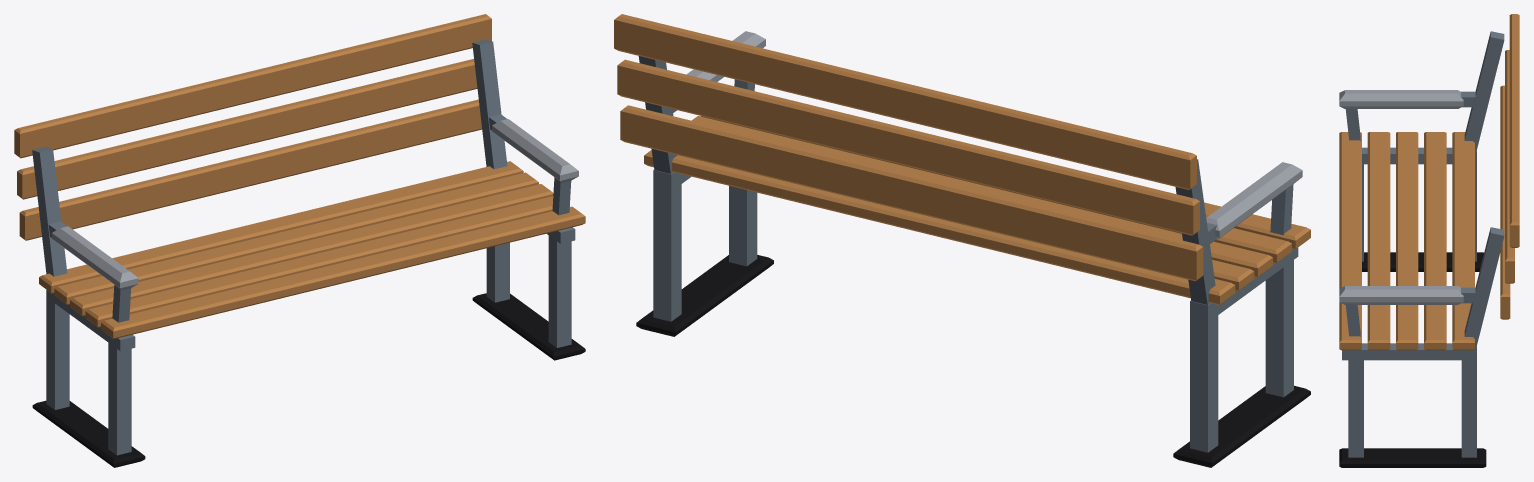
The model's file is PROP_06.obj.
3 renders of one model, left to right at view 1: azimuth 30°, elevation 25°; view 2: azimuth 150°, elevation 25°; view 3: azimuth 270°, elevation 25°, orthographic. The views are drawn at different scales.
Visible parts, largest first — view 1: PROP_06__backrest, PROP_06__seat, PROP_06__frame, PROP_06__foot, PROP_06__armrest; view 2: PROP_06__backrest, PROP_06__frame, PROP_06__seat, PROP_06__foot, PROP_06__armrest; view 3: PROP_06__seat, PROP_06__frame, PROP_06__backrest, PROP_06__armrest, PROP_06__foot.
Boxes of the visible parts, x1,y1,x2,y2 form: PROP_06__backrest: (14,14,491,240); PROP_06__seat: (39,161,585,338); PROP_06__frame: (32,39,575,455); PROP_06__foot: (32,293,585,467); PROP_06__armrest: (51,119,578,290); PROP_06__backrest: (614,14,1203,281); PROP_06__frame: (638,56,1298,452); PROP_06__seat: (644,116,1310,305); PROP_06__foot: (636,255,1310,467); PROP_06__armrest: (686,31,1302,240); PROP_06__seat: (1339,132,1474,350); PROP_06__frame: (1342,31,1504,457); PROP_06__backrest: (1500,14,1519,319); PROP_06__armrest: (1339,90,1463,304); PROP_06__foot: (1339,252,1486,467).
Bounding box in the file's own units: 1.76 × 0.96 × 0.6382.
